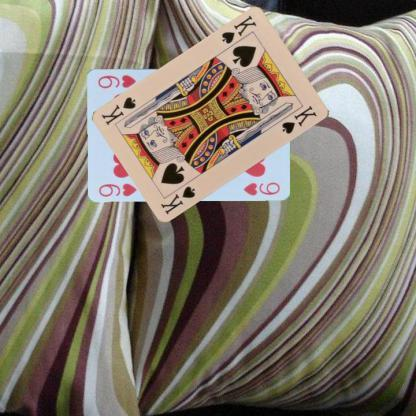9h: (96, 180, 138, 198)
Ks: (219, 13, 258, 46), (158, 183, 196, 216)
